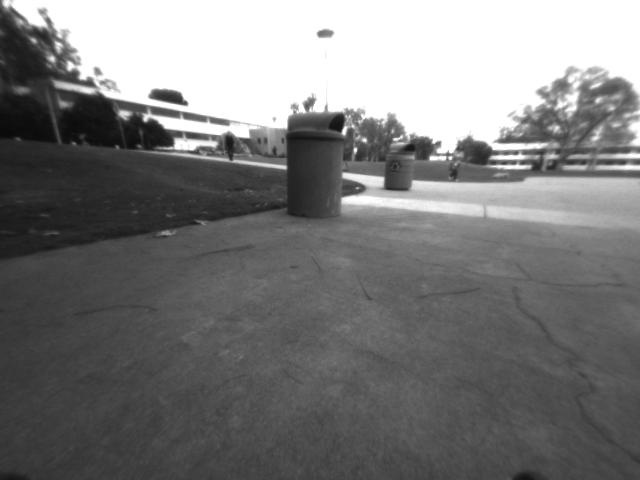trashcan: (280, 107, 353, 226)
